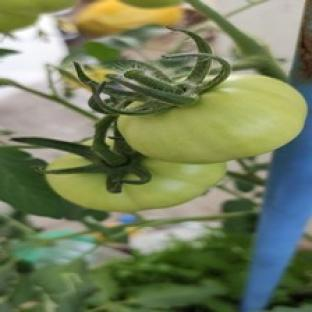Tomato: (117, 76, 306, 162), (46, 158, 225, 211)
